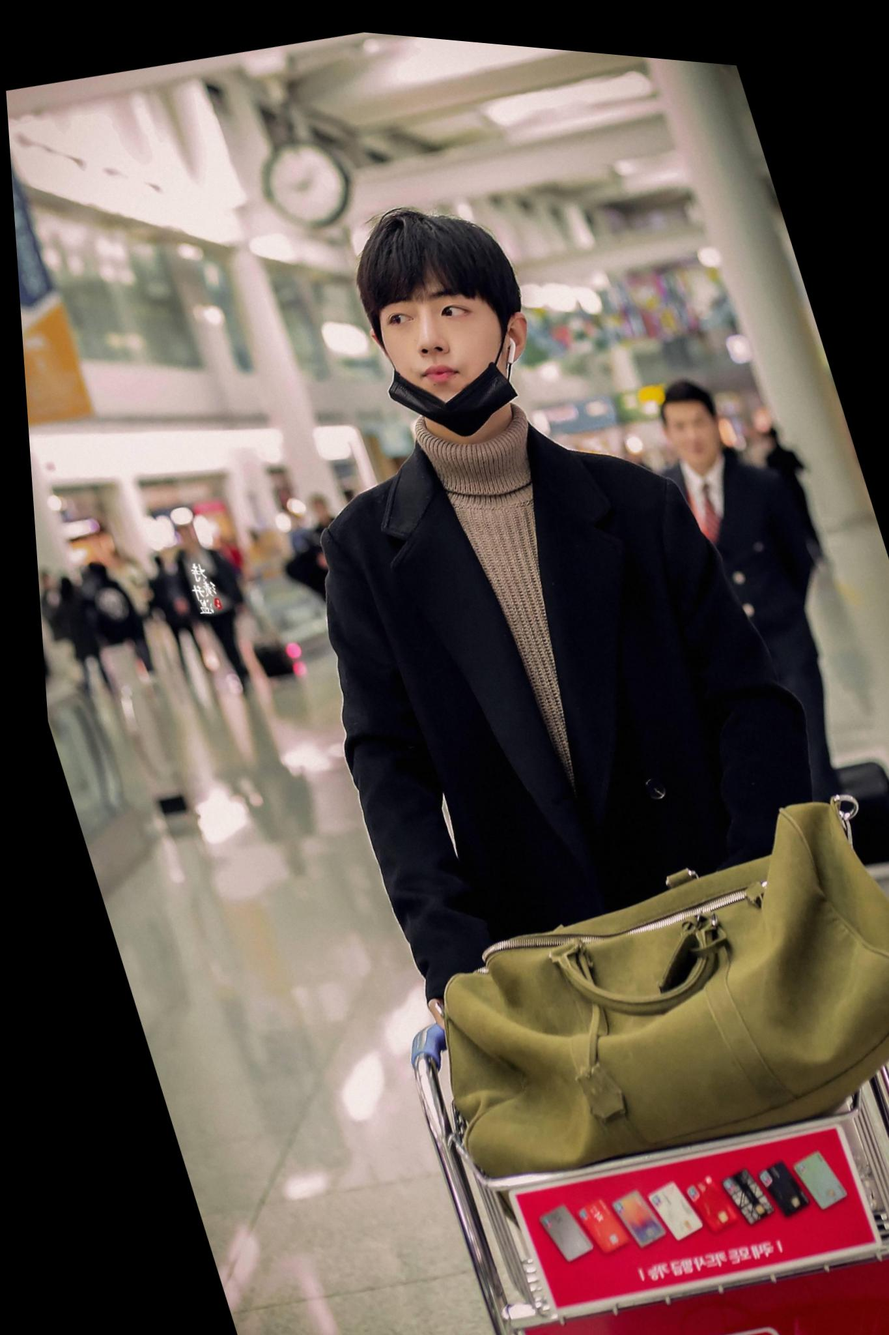NONE: (658, 389, 720, 462)
WRONG: (360, 246, 519, 432)
